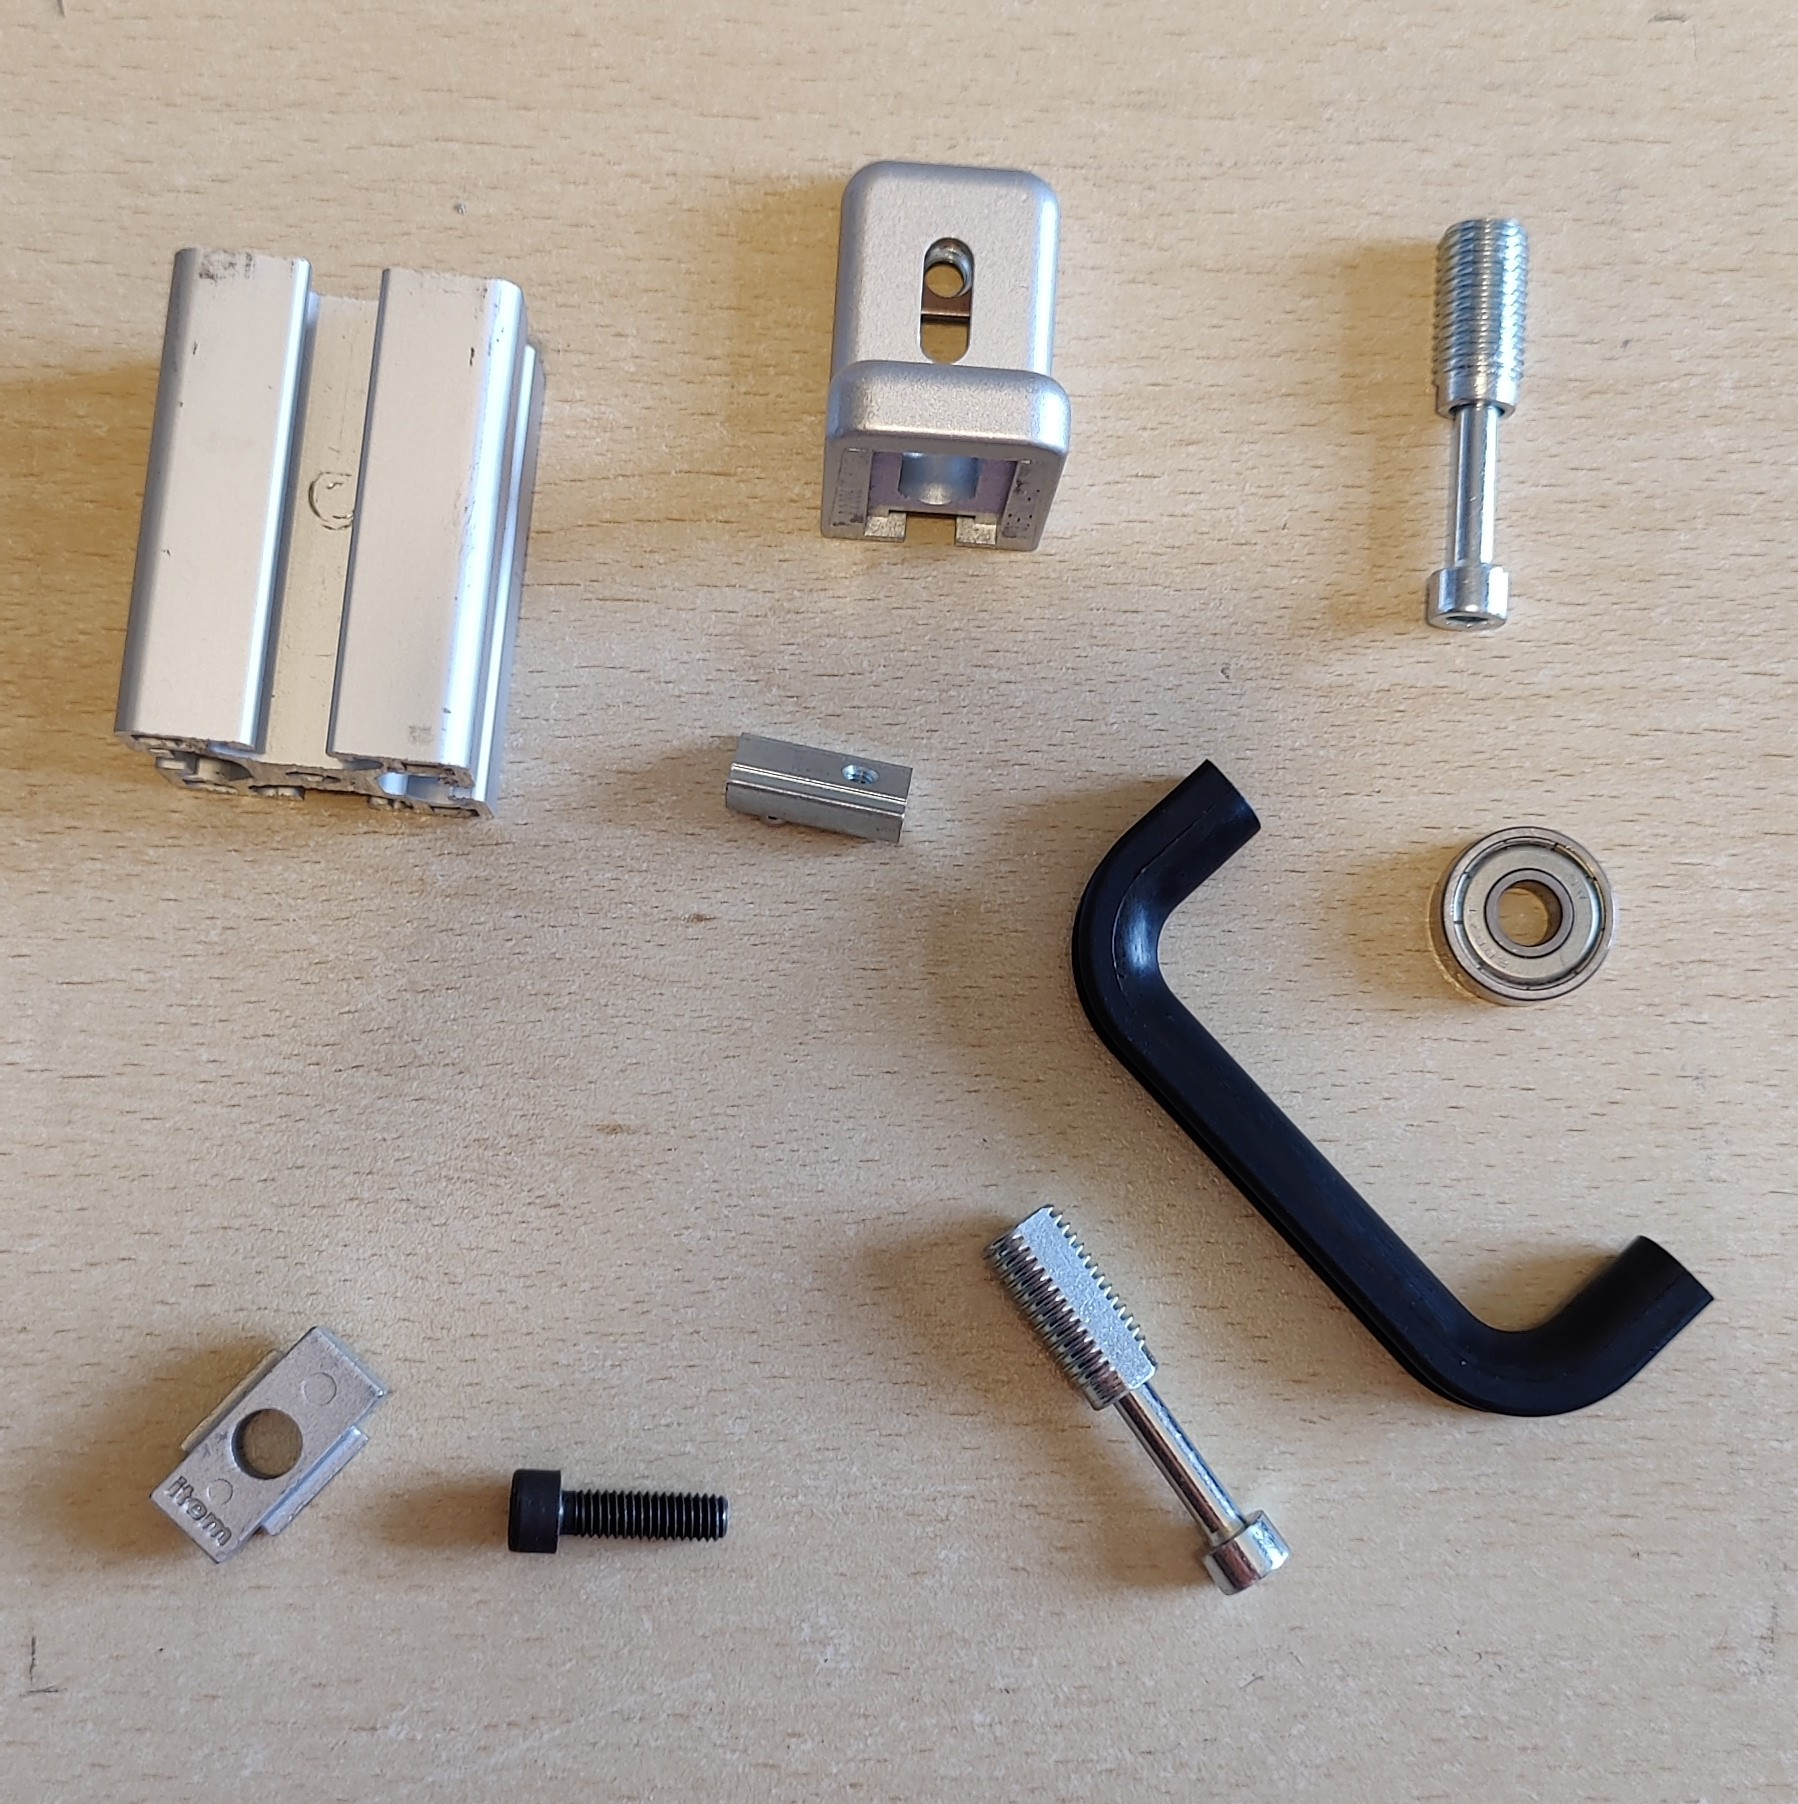Aluminium Extension: (114, 242, 552, 821)
Ball Bearing: (1426, 826, 1615, 1007)
Multiwinkel: (818, 160, 1074, 555)
Pull Handle: (1070, 756, 1719, 1417)
Shoulder Socket Head Cap Screw: (980, 1200, 1296, 1602), (1421, 216, 1536, 634)
Socket Head Cap Screw: (502, 1463, 729, 1555)
T Nut Square: (147, 1322, 397, 1567)
T Spring Nut: (723, 731, 917, 848)
